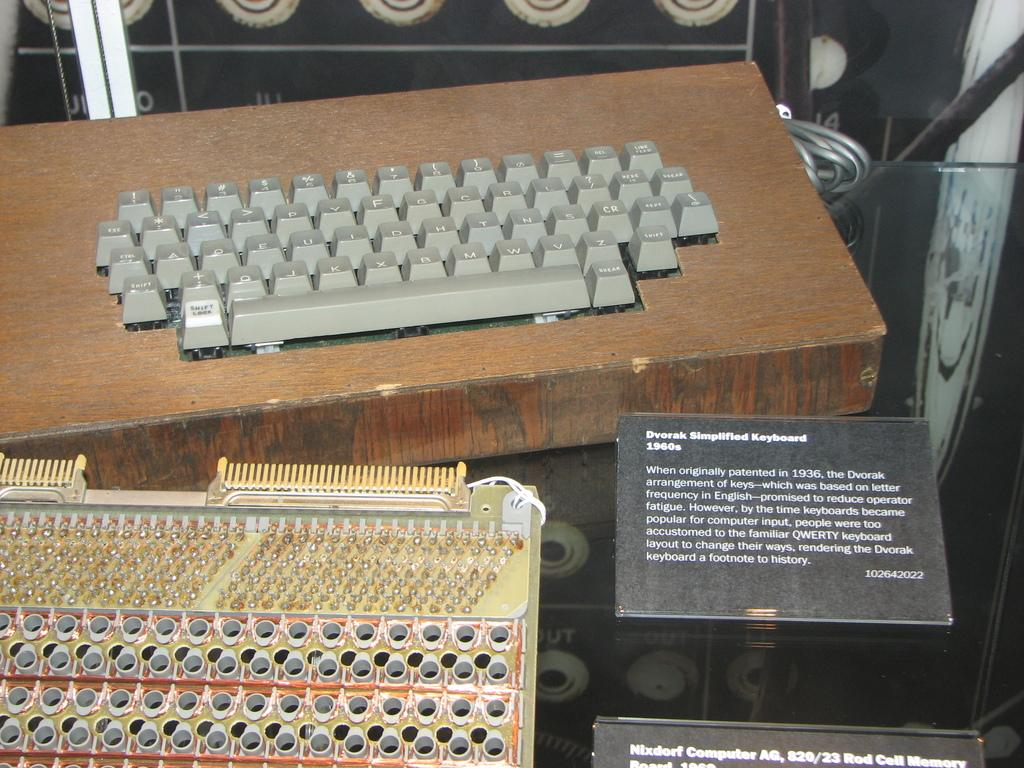Computer-keyboard: (93, 136, 719, 360)
